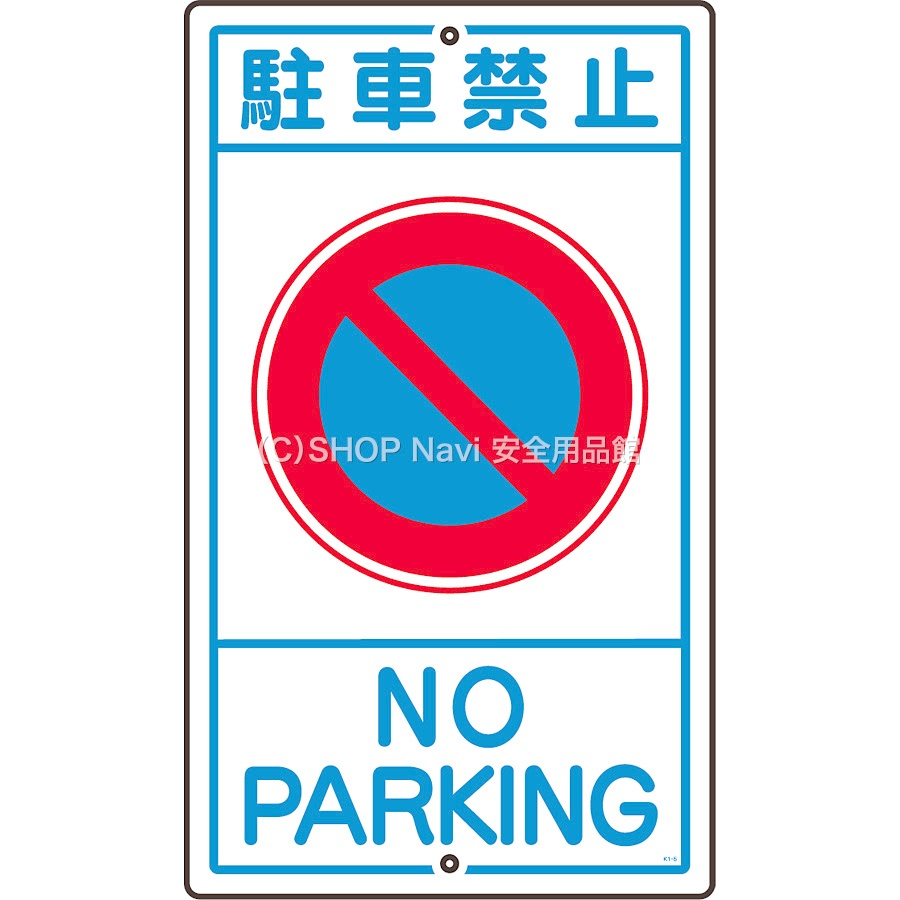Prohibition_sign: (240, 194, 660, 617)
